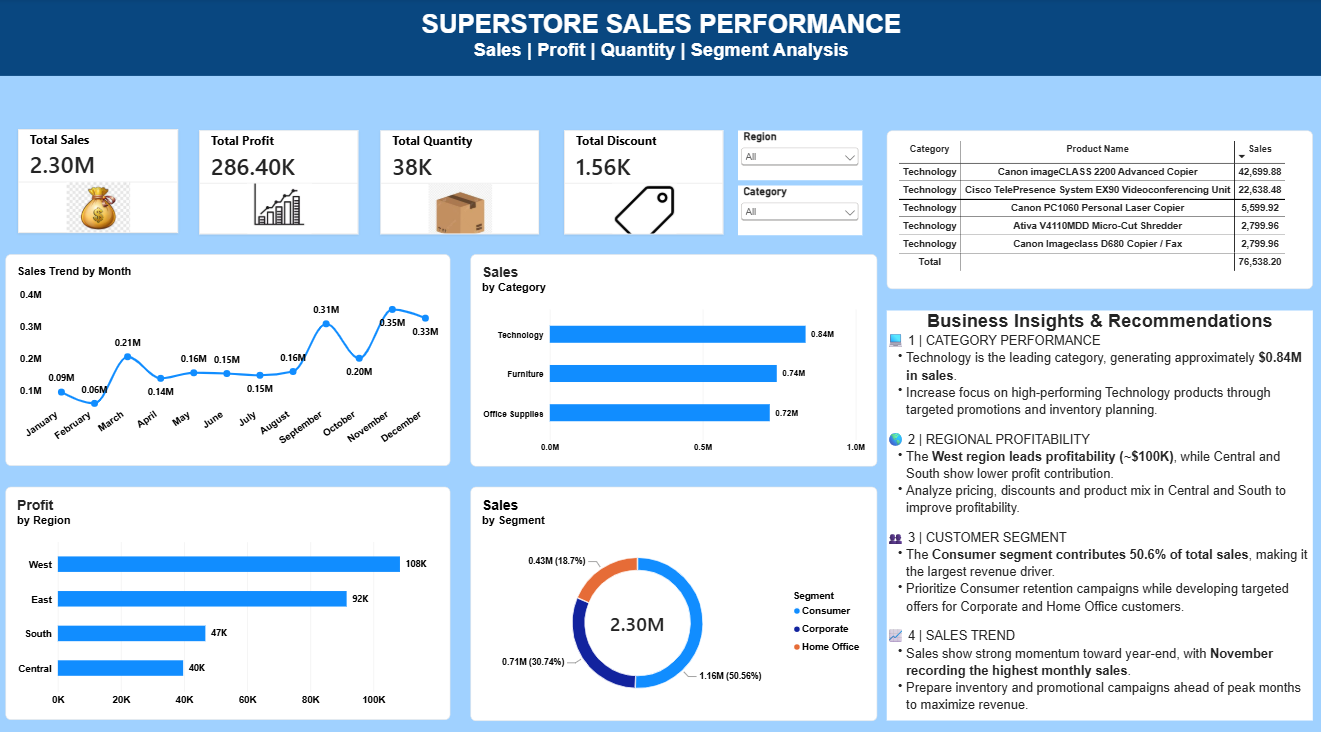

Layout of this report page (visuals, bound fields, positions):
{"tool":"powerbi","page":{"name":"Page 1","canvas":[1920,1080],"ordinal":0},"visuals":[{"type":"cardVisual","fields":{"Data":["Sum(Orders.Sales)"]},"box":[29,190,231.6,150.2],"z":0},{"type":"cardVisual","fields":{"Data":["Sum(Orders.Profit)"]},"box":[291.4,191.8,230,150],"z":1000},{"type":"cardVisual","fields":{"Data":["Sum(Orders.Quantity)"]},"box":[553.8,191.8,229.8,150.2],"z":2000},{"type":"cardVisual","fields":{"Data":["Sum(Orders.Discount)"]},"box":[819.8,191.8,230,150],"z":3000},{"type":"lineChart","fields":{"Category":["Orders.Order Date.Variation.Date Hierarchy.Month"],"Y":["Sum(Orders.Sales)"]},"box":[10.3,370.5,644.3,306.7],"z":4000},{"type":"barChart","fields":{"Category":["Orders.Category"],"Y":["Sum(Orders.Sales)"]},"box":[683.3,370.4,588.9,307.4],"z":5000},{"type":"barChart","fields":{"Category":["Orders.Region"],"Y":["Sum(Orders.Profit)"]},"box":[10.3,708.1,644.3,337.6],"z":6000},{"type":"slicer","fields":{"Values":["Orders.Region"]},"box":[1072.2,192.6,179.6,72.2],"z":7000},{"type":"donutChart","fields":{"Category":["Orders.Segment"],"Y":["Sum(Orders.Sales)"]},"box":[683.3,707.4,588.9,338.9],"z":8000},{"type":"textbox","box":[0,0,1920.4,113],"z":9000},{"type":"tableEx","fields":{"Values":["Orders.Category","Orders.Product Name","Sum(Orders.Sales)"]},"box":[1286.7,191.8,617.1,229.8],"z":10000},{"type":"textbox","box":[1286.7,452.4,617.1,593.6],"z":11000},{"type":"slicer","fields":{"Values":["Orders.Category"]},"box":[1072.2,272.2,179.6,72.2],"z":12000}]}

Visuals, with their boxes in screenshot pixels (x1, y1, x2, y2), scaled from the page's 1920x1080 canvas onto the 1321x732 screenshot:
cardVisual - Sum(Orders.Sales): [x1=20, y1=129, x2=179, y2=231]
cardVisual - Sum(Orders.Profit): [x1=200, y1=130, x2=359, y2=232]
cardVisual - Sum(Orders.Quantity): [x1=381, y1=130, x2=539, y2=232]
cardVisual - Sum(Orders.Discount): [x1=564, y1=130, x2=722, y2=232]
lineChart - Orders.Order Date.Variation.Date Hierarchy.Month x Sum(Orders.Sales): [x1=7, y1=251, x2=450, y2=459]
barChart - Orders.Category x Sum(Orders.Sales): [x1=470, y1=251, x2=875, y2=459]
barChart - Orders.Region x Sum(Orders.Profit): [x1=7, y1=480, x2=450, y2=709]
slicer - Orders.Region: [x1=738, y1=131, x2=861, y2=179]
donutChart - Orders.Segment x Sum(Orders.Sales): [x1=470, y1=479, x2=875, y2=709]
textbox: [x1=0, y1=0, x2=1320, y2=77]
tableEx - Orders.Category x Orders.Product Name: [x1=885, y1=130, x2=1310, y2=286]
textbox: [x1=885, y1=307, x2=1310, y2=709]
slicer - Orders.Category: [x1=738, y1=184, x2=861, y2=233]
